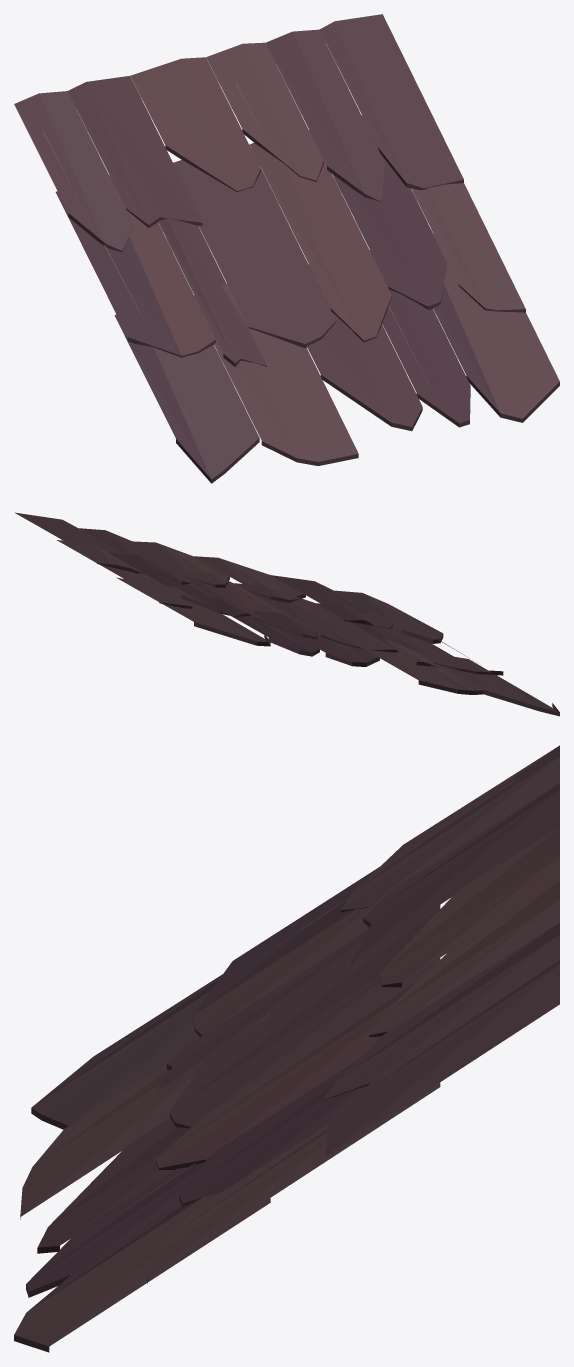
File: CleftShakes17.glb
3 views of the same model, one above another, from view 1: azimuth 30°, elevation 25°; view 2: azimuth 150°, elevation 25°; view 3: azimuth 270°, elevation 25° (orthographic). The views are drawn at different scales.
Visible parts, largest first — view 1: CleftShakes17; view 2: CleftShakes17; view 3: CleftShakes17.
Boxes of the visible parts, bbox=[...] form: CleftShakes17: bbox=[14, 14, 559, 483]; CleftShakes17: bbox=[15, 512, 559, 716]; CleftShakes17: bbox=[14, 745, 559, 1352].
Size of the model in its own units: 2.02 by 1.38 by 1.8.
